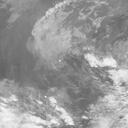cyclone: (26, 12, 109, 92)
